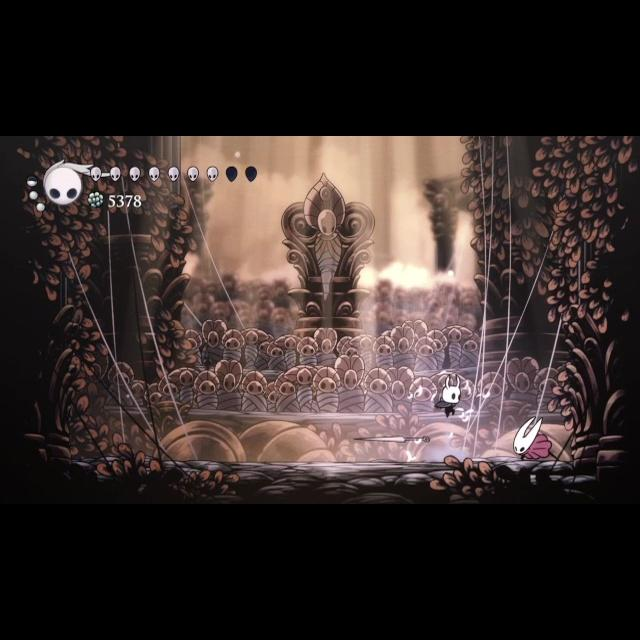Enemy: (508, 412, 562, 466)
NailAttack: (349, 428, 437, 448)
Player: (430, 372, 466, 422)
